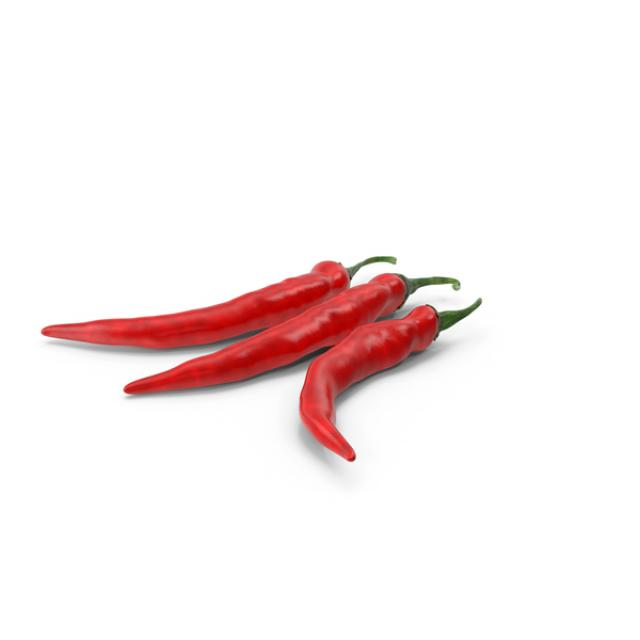red chili: (124, 274, 461, 395), (42, 257, 397, 349), (301, 299, 482, 461)
